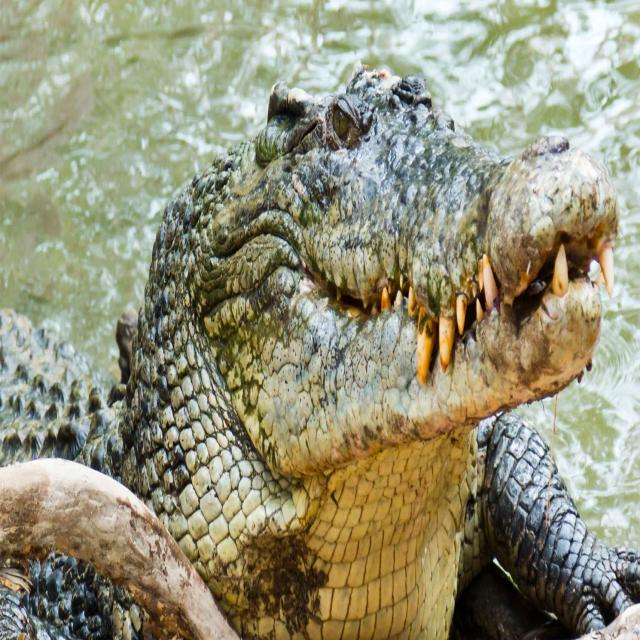not_pig: (1, 59, 636, 638)
